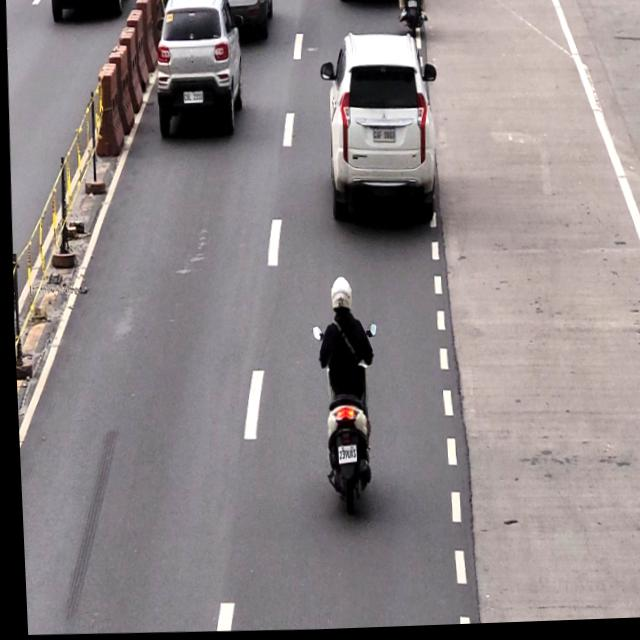Car: (321, 33, 437, 226), (150, 0, 241, 140)
License-Plate: (332, 446, 354, 467), (178, 91, 203, 108), (370, 130, 396, 145)
Motorcycle: (308, 277, 377, 511)
